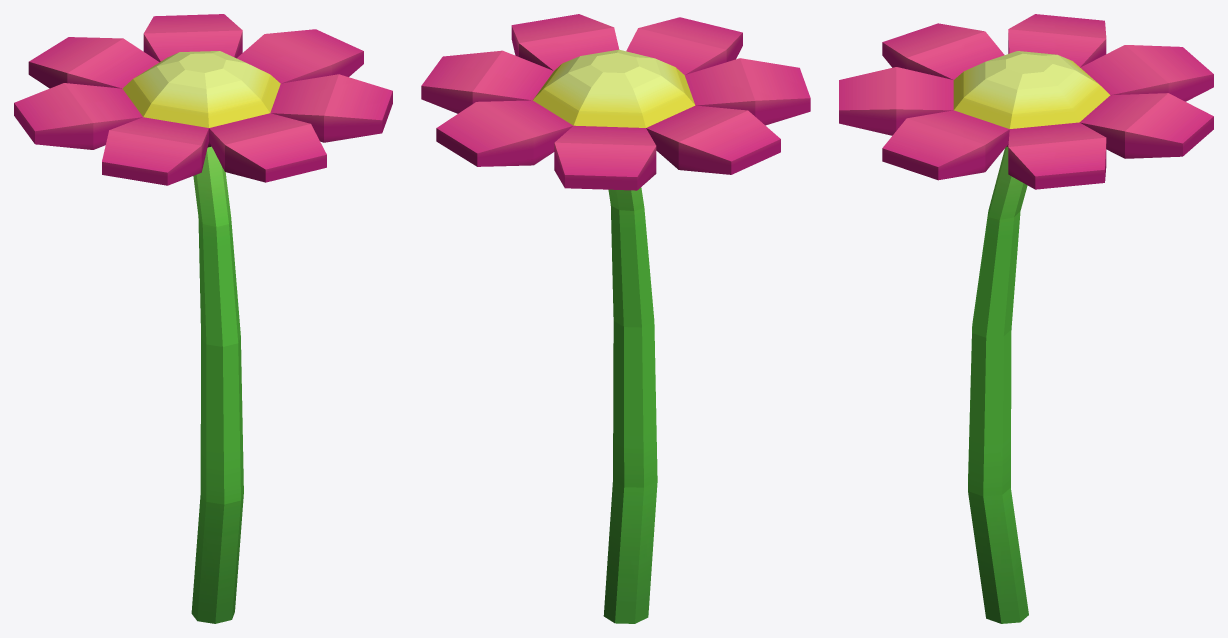
The model's file is quaternius-textured-fantasy-nature-flower.glb.
The picture shows the model from 3 angles, left to right: view 1: azimuth 30°, elevation 25°; view 2: azimuth 150°, elevation 25°; view 3: azimuth 270°, elevation 25°; orthographic projection. The views are drawn at different scales.
Visible parts, largest first — view 1: Flower; view 2: Flower; view 3: Flower.
Boxes of the visible parts, x1,y1,x2,y2 form: Flower: (14, 14, 392, 623); Flower: (421, 14, 810, 623); Flower: (839, 14, 1213, 623).
Bounding box in the file's own units: 0.7184 × 1.14 × 0.7005.
1 material, 1 textured.
